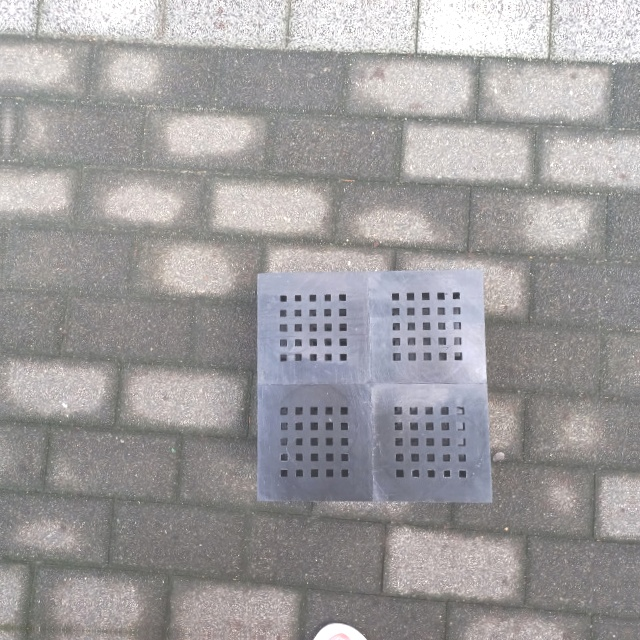pallet: (253, 266, 494, 507)
